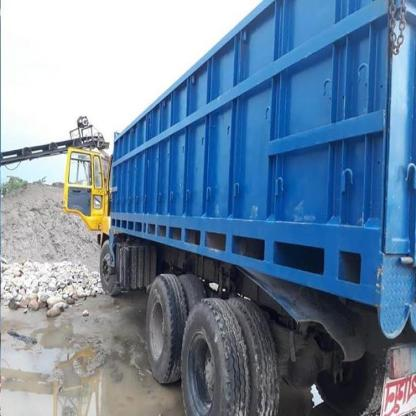truck: (65, 1, 412, 415)
